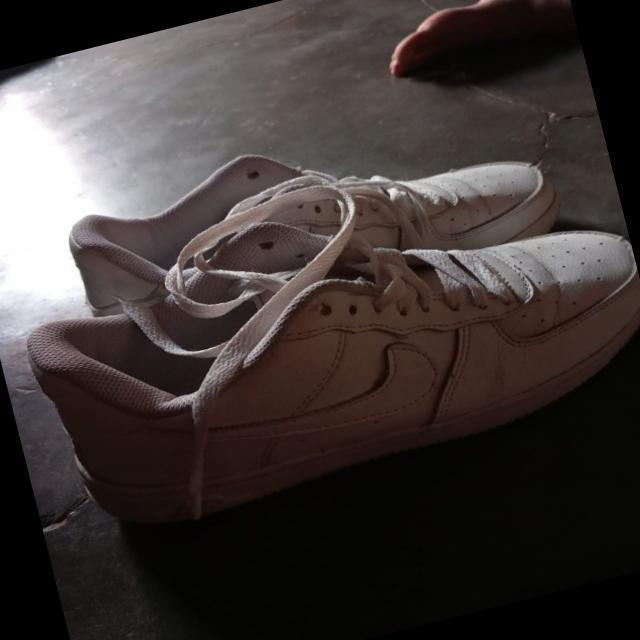nike fake air force: (11, 180, 640, 542), (60, 80, 578, 373)
